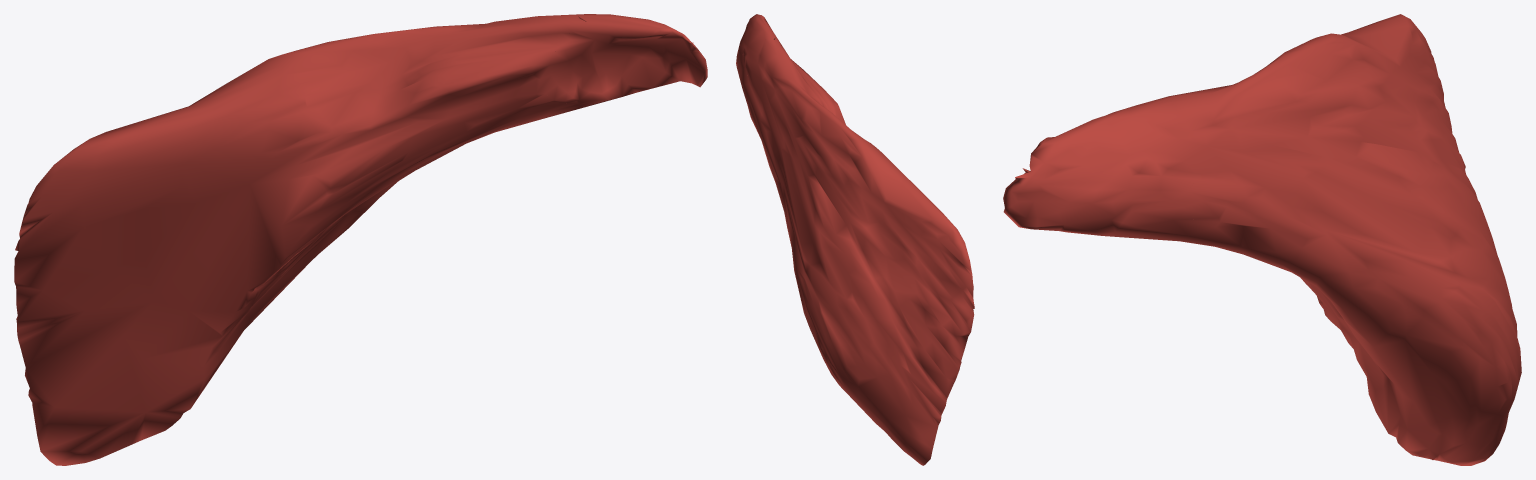
Rendered from musculos-infraspinatus-muscle-l.glb.
3 renders of one model, left to right at view 1: azimuth 30°, elevation 25°; view 2: azimuth 150°, elevation 25°; view 3: azimuth 270°, elevation 25°, orthographic. The views are drawn at different scales.
Parts seen in each view (by area): view 1: Infraspinatus muscle.l; view 2: Infraspinatus muscle.l; view 3: Infraspinatus muscle.l.
Boxes of the visible parts, left/top/right/bottom form: Infraspinatus muscle.l: left=14, top=14, right=707, bottom=465; Infraspinatus muscle.l: left=736, top=14, right=974, bottom=465; Infraspinatus muscle.l: left=1003, top=14, right=1521, bottom=465.
Size of the model in its own units: 0.1326 by 0.1136 by 0.0918.
